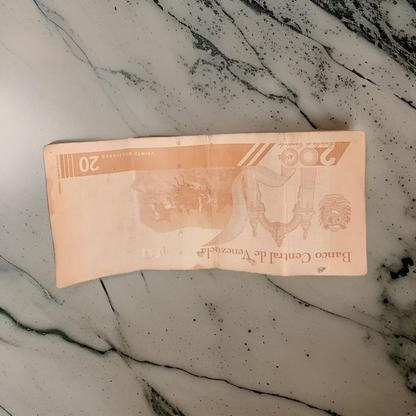twenty-back-vef: (124, 41, 286, 367)
